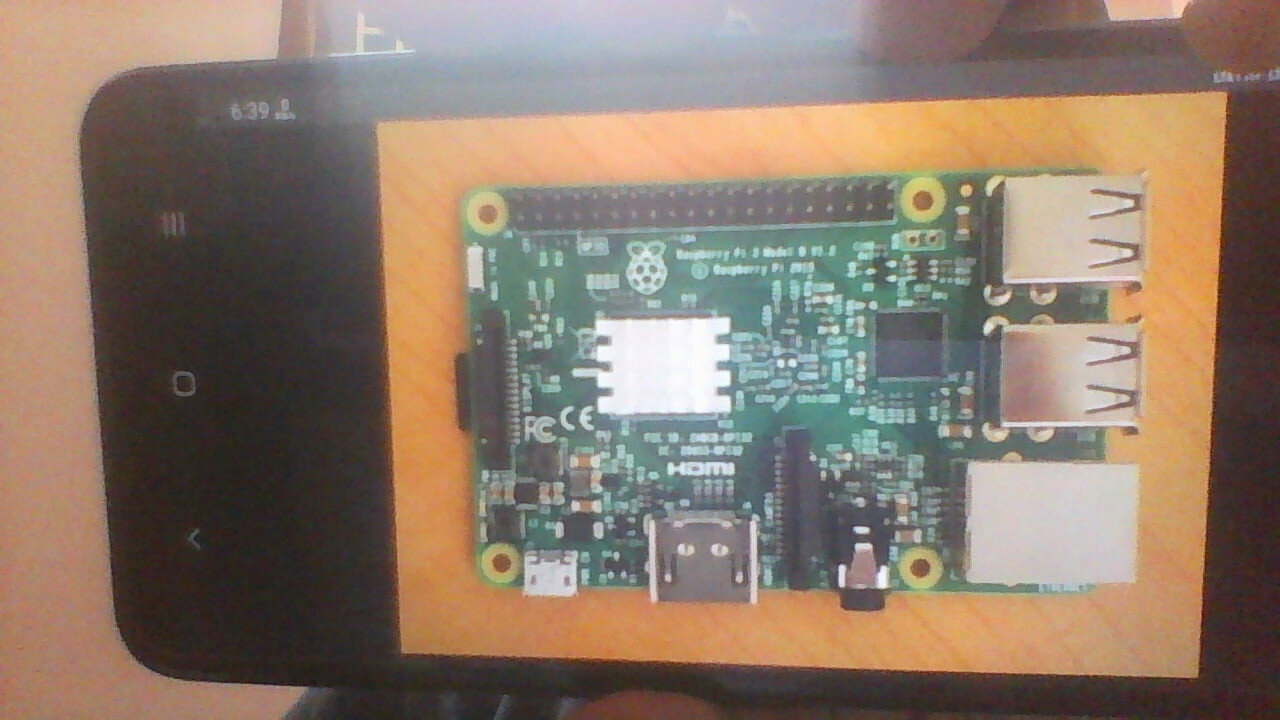aud: (833, 495, 894, 616)
eth: (956, 457, 1141, 589)
usb: (987, 320, 1147, 437), (990, 176, 1149, 288)
